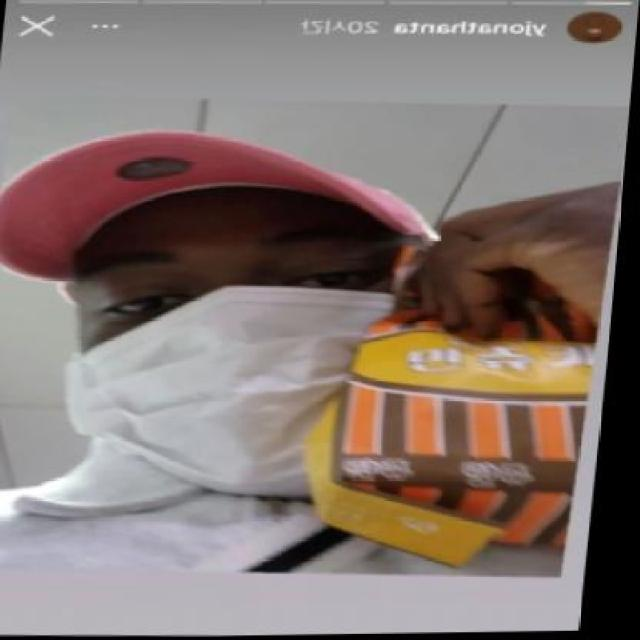hat: (0, 122, 448, 296)
